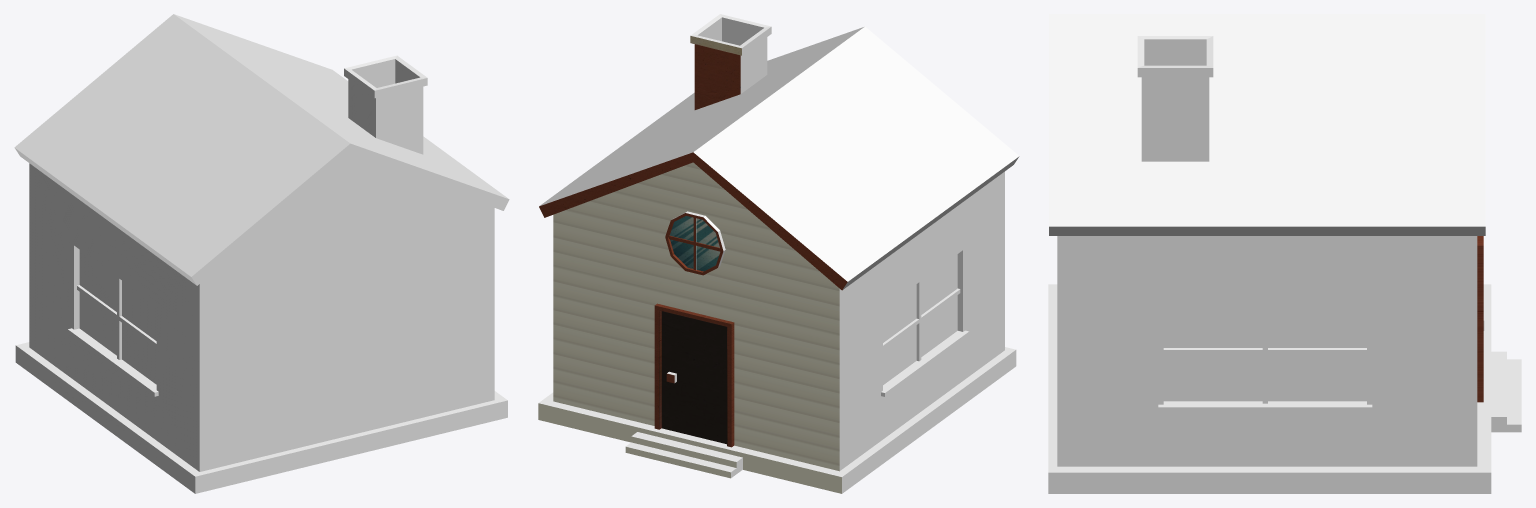
Rendered from house-newtex.fbx.
3 views of the same model, side by side, from view 1: azimuth 30°, elevation 25°; view 2: azimuth 150°, elevation 25°; view 3: azimuth 270°, elevation 25° (orthographic). The views are drawn at different scales.
Parts seen in each view (by area): view 1: House2; view 2: House2; view 3: House2.
Part boxes in pixels (box(x1,y1,x2,y2)): House2: box(14, 14, 509, 493); House2: box(538, 14, 1019, 493); House2: box(1048, 14, 1521, 493).
Size of the model in its own units: 6.7 by 6.52 by 6.99.
1 material, 1 textured.
